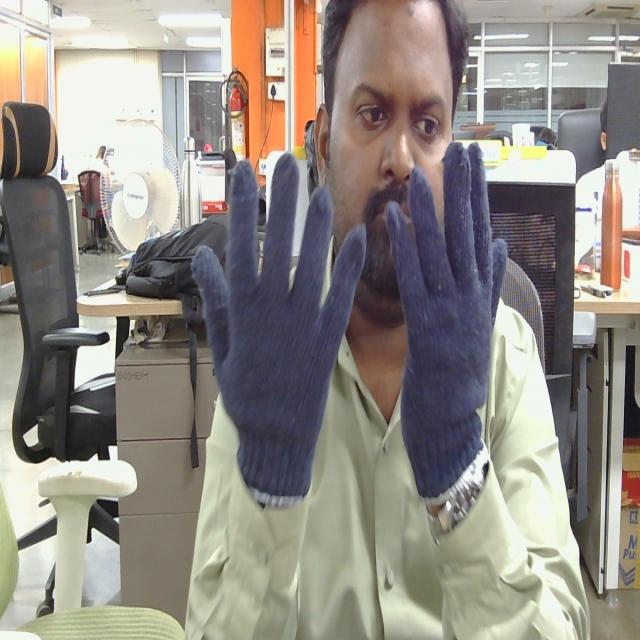Gloves-Detection: (190, 153, 366, 510), (378, 142, 506, 508)
